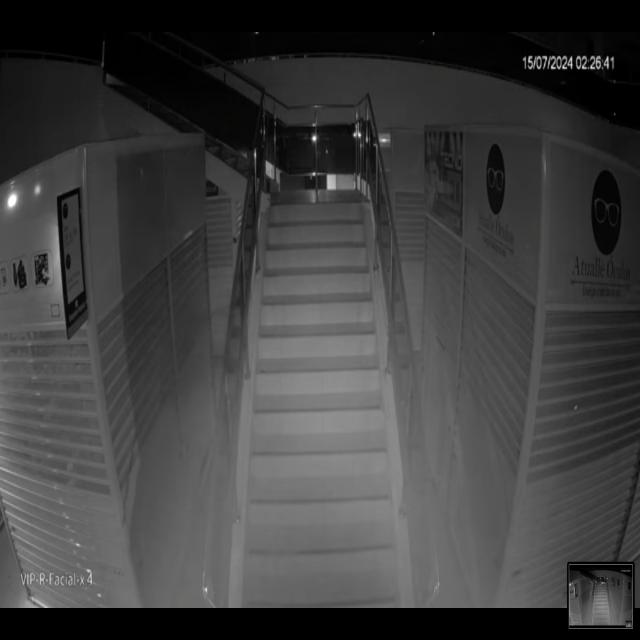Atencao: (86, 225, 554, 602)
